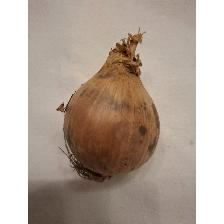Zwiebel: (54, 26, 164, 184)
